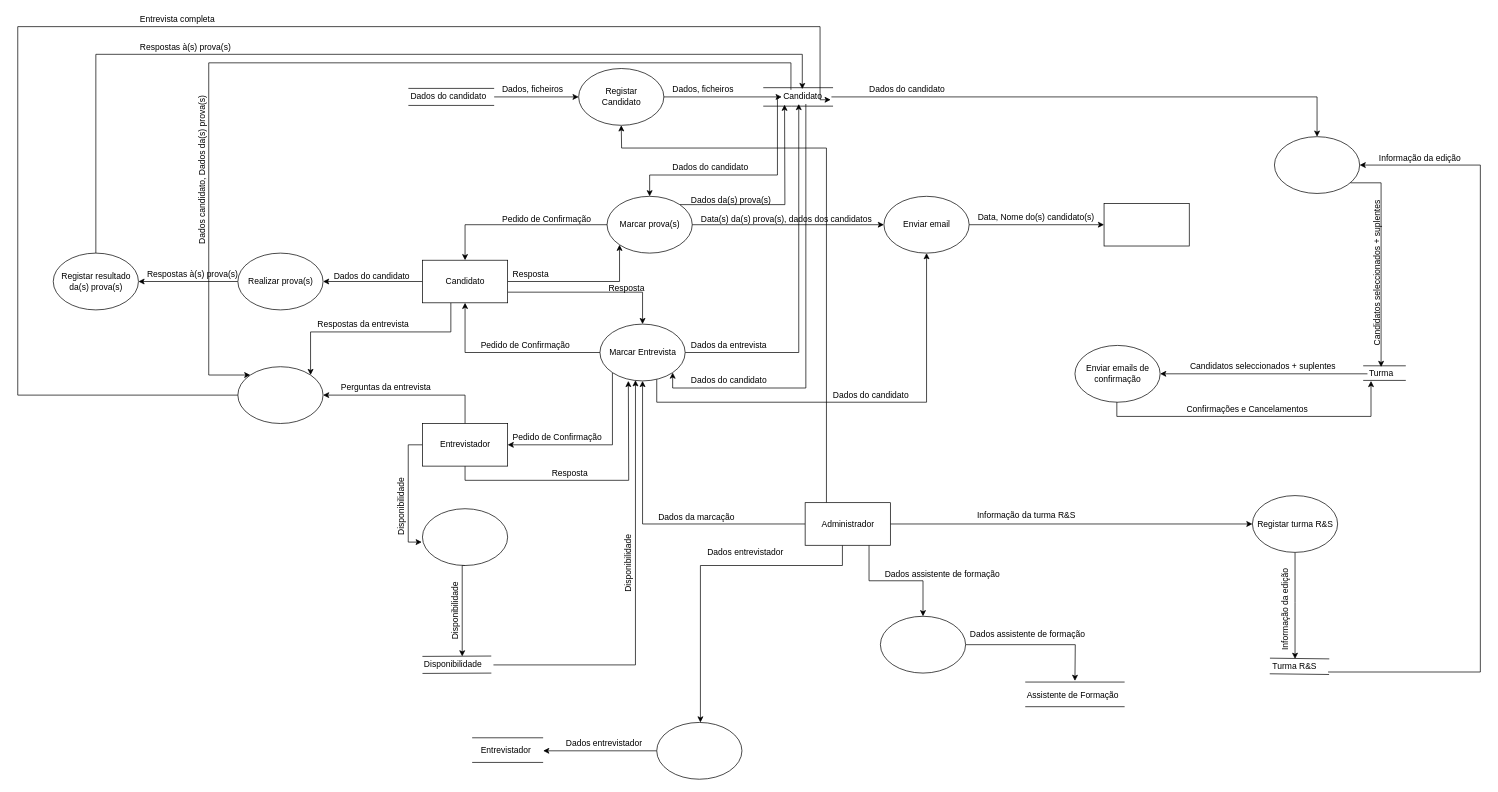
Image size: 1498x792. Some labels were removed from this diagram. The shapes that lost their labels are listed below. From the top down, each one's centre as x and y in pixels, then its label:
the point at 1317,164: Seriar candidatos
the point at 1146,224: Portaria
the point at 280,395: Realizar entrevista
the point at 465,537: Registar disponibilidade
the point at 923,644: Registar assistente de formação
the point at 699,750: Registar entrevistador
